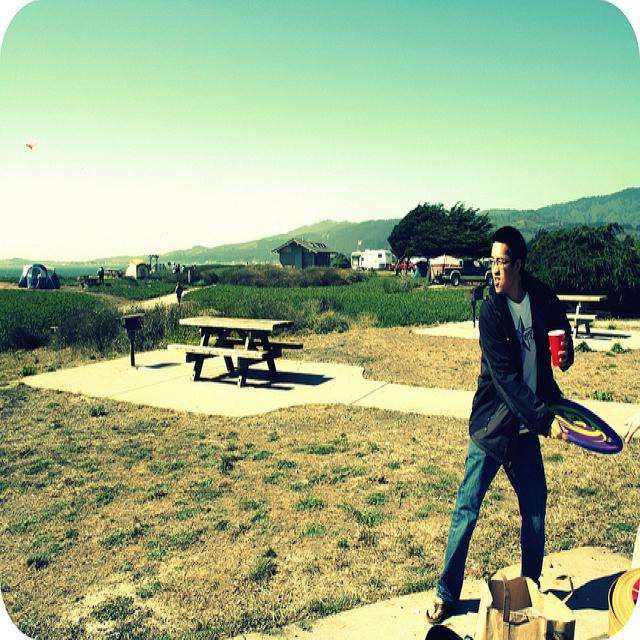Vehicle: (442, 256, 493, 288), (396, 254, 432, 280)
